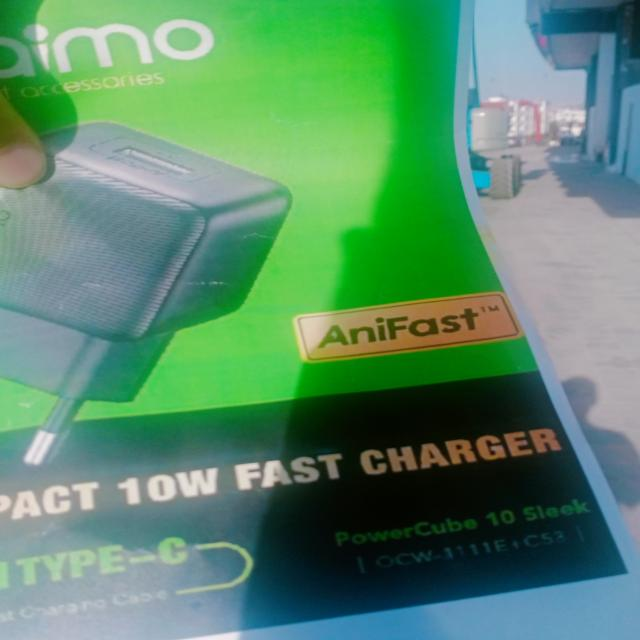PowerCube 10 Sleek OCW-1111ExL53: (318, 490, 591, 575)
